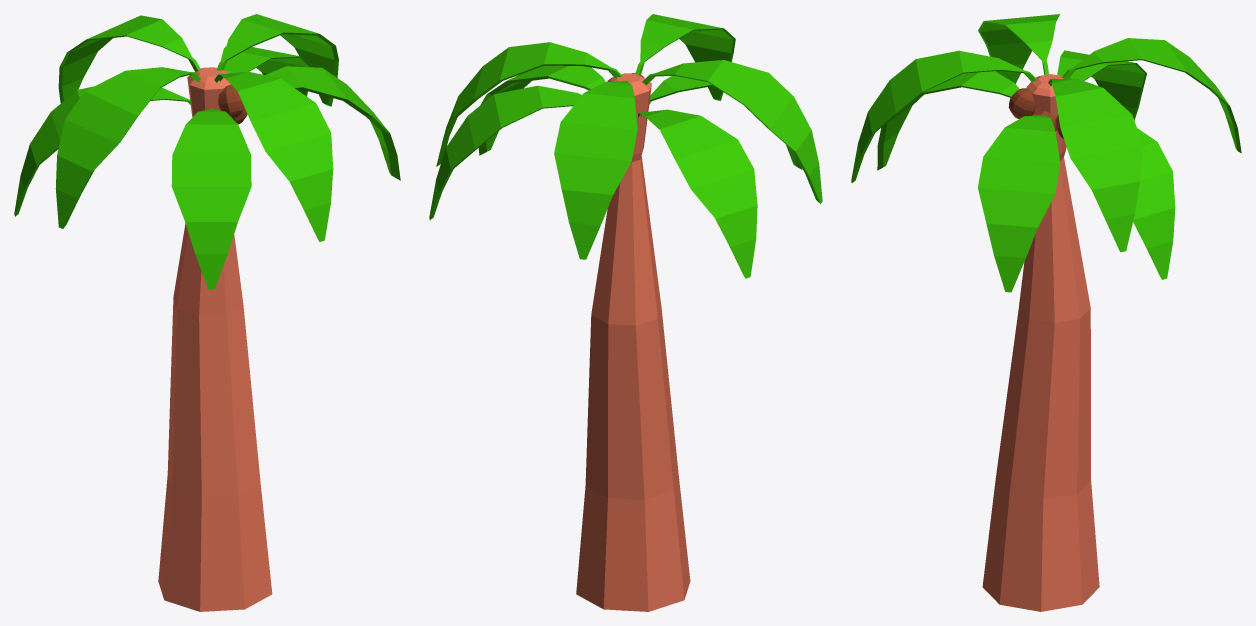
Rendered from palm2.fbx.
3 views of the same model, side by side, from view 1: azimuth 30°, elevation 25°; view 2: azimuth 150°, elevation 25°; view 3: azimuth 270°, elevation 25° (orthographic).
Parts seen in each view (by area): view 1: palm2; view 2: palm2; view 3: palm2.
Part boxes in pixels (x1,y1,x2,y2): palm2: [14, 14, 400, 611]; palm2: [429, 14, 822, 611]; palm2: [851, 14, 1241, 611].
Bounding box in the file's own units: 476 × 711 × 477.
